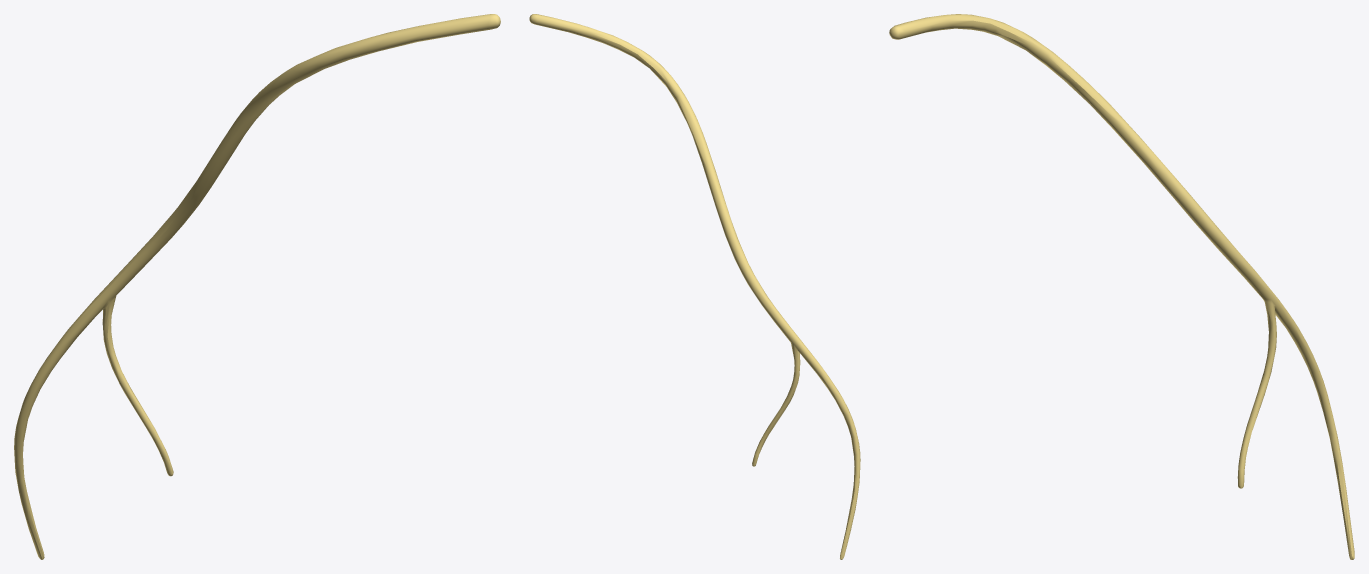
Rendered from fma77524_fj3972.glb.
3 renders of one model, left to right at view 1: azimuth 30°, elevation 25°; view 2: azimuth 210°, elevation 25°; view 3: azimuth 270°, elevation 25°, orthographic. The views are drawn at different scales.
Parts seen in each view (by area): view 1: FMA77524_FJ3972; view 2: FMA77524_FJ3972; view 3: FMA77524_FJ3972.
Boxes of the visible parts, left/top/right/bottom form: FMA77524_FJ3972: left=14, top=14, right=500, bottom=559; FMA77524_FJ3972: left=529, top=14, right=860, bottom=559; FMA77524_FJ3972: left=889, top=14, right=1354, bottom=559.
Size of the model in its own units: 0.0125 by 0.0319 by 0.0214.
